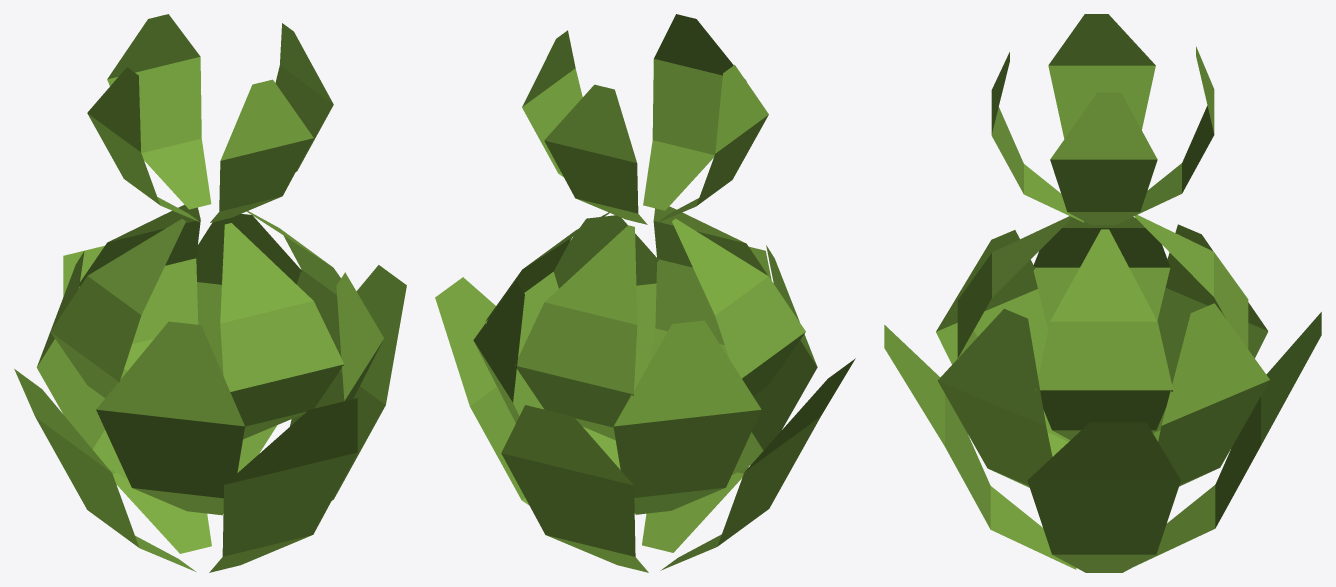
The model's file is Plant_7.fbx.
The picture shows the model from 3 angles, left to right: view 1: azimuth 30°, elevation 25°; view 2: azimuth 150°, elevation 25°; view 3: azimuth 270°, elevation 25°; orthographic projection.
Parts seen in each view (by area): view 1: Plant_7; view 2: Plant_7; view 3: Plant_7.
Part boxes in pixels (left/top/right/bottom): Plant_7: left=14, top=14, right=406, bottom=572; Plant_7: left=435, top=14, right=855, bottom=572; Plant_7: left=884, top=14, right=1321, bottom=572.
Size of the model in its own units: 120 by 154 by 120.
